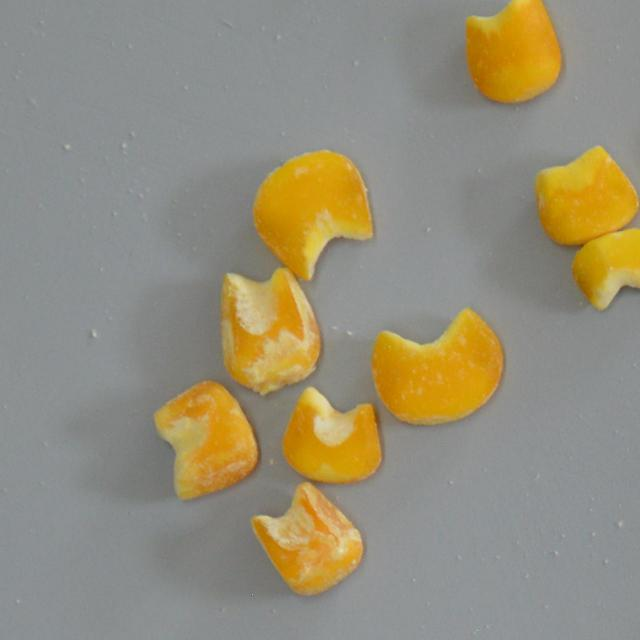dañado: (250, 145, 379, 284), (368, 300, 506, 427), (212, 262, 328, 398), (146, 376, 260, 504), (248, 478, 365, 599), (568, 226, 640, 314)
no_canjicado: (461, 0, 568, 110)
pelicula: (530, 142, 640, 248)
